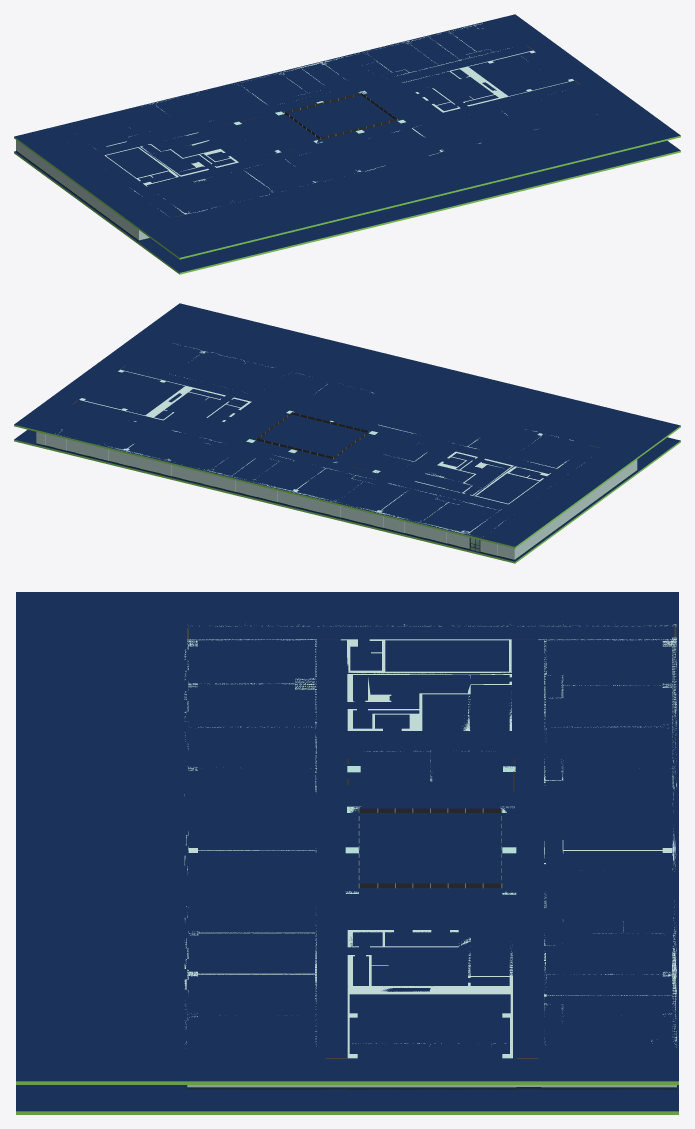
The model's file is 8F_Floor.fbx.
3 views of the same model, one above another, from view 1: azimuth 30°, elevation 25°; view 2: azimuth 150°, elevation 25°; view 3: azimuth 270°, elevation 25° (orthographic). The views are drawn at different scales.
Visible parts, largest first — view 1: 8_Ceiling, 8_Floor, Out_Wall, Center_Glass, 8F_EV_02, 8F_EV_02_Room, 8F_EV_01; view 2: 8_Ceiling, Out_Wall, 8_Floor, Center_Glass, 8F_EV_02, 8F_EV_02_Room, 8F_EV_01; view 3: 8_Ceiling, 8_Floor, Out_Wall, 8F_EV_02_Room, Center_Glass, 8F_EV_02, Room_02, 8F_EV_01, 8F_EV_01_Room, Room_04.
Boxes of the visible parts, x1,y1,x2,y2 form: 8_Ceiling: (14, 14, 680, 259); 8_Floor: (14, 140, 680, 274); Out_Wall: (16, 23, 536, 241); Center_Glass: (284, 92, 397, 139); 8F_EV_02: (140, 144, 238, 176); 8F_EV_02_Room: (462, 50, 573, 97); 8F_EV_01: (415, 68, 502, 112); 8_Ceiling: (14, 303, 680, 548); Out_Wall: (36, 344, 637, 560); 8_Floor: (14, 429, 680, 563); Center_Glass: (256, 412, 369, 459); 8F_EV_02: (437, 451, 513, 495); 8F_EV_02_Room: (79, 369, 191, 417); 8F_EV_01: (151, 387, 251, 421); 8_Ceiling: (16, 592, 678, 1084); 8_Floor: (16, 1085, 678, 1114); Out_Wall: (184, 624, 676, 1089); 8F_EV_02_Room: (347, 988, 512, 1058); Center_Glass: (358, 808, 502, 888); 8F_EV_02: (347, 674, 511, 730); Room_02: (189, 639, 316, 1046); 8F_EV_01: (347, 930, 512, 987); 8F_EV_01_Room: (341, 639, 511, 673); Room_04: (538, 639, 671, 1044).
Size of the model in its own units: 87.32 by 3.17 by 50.
